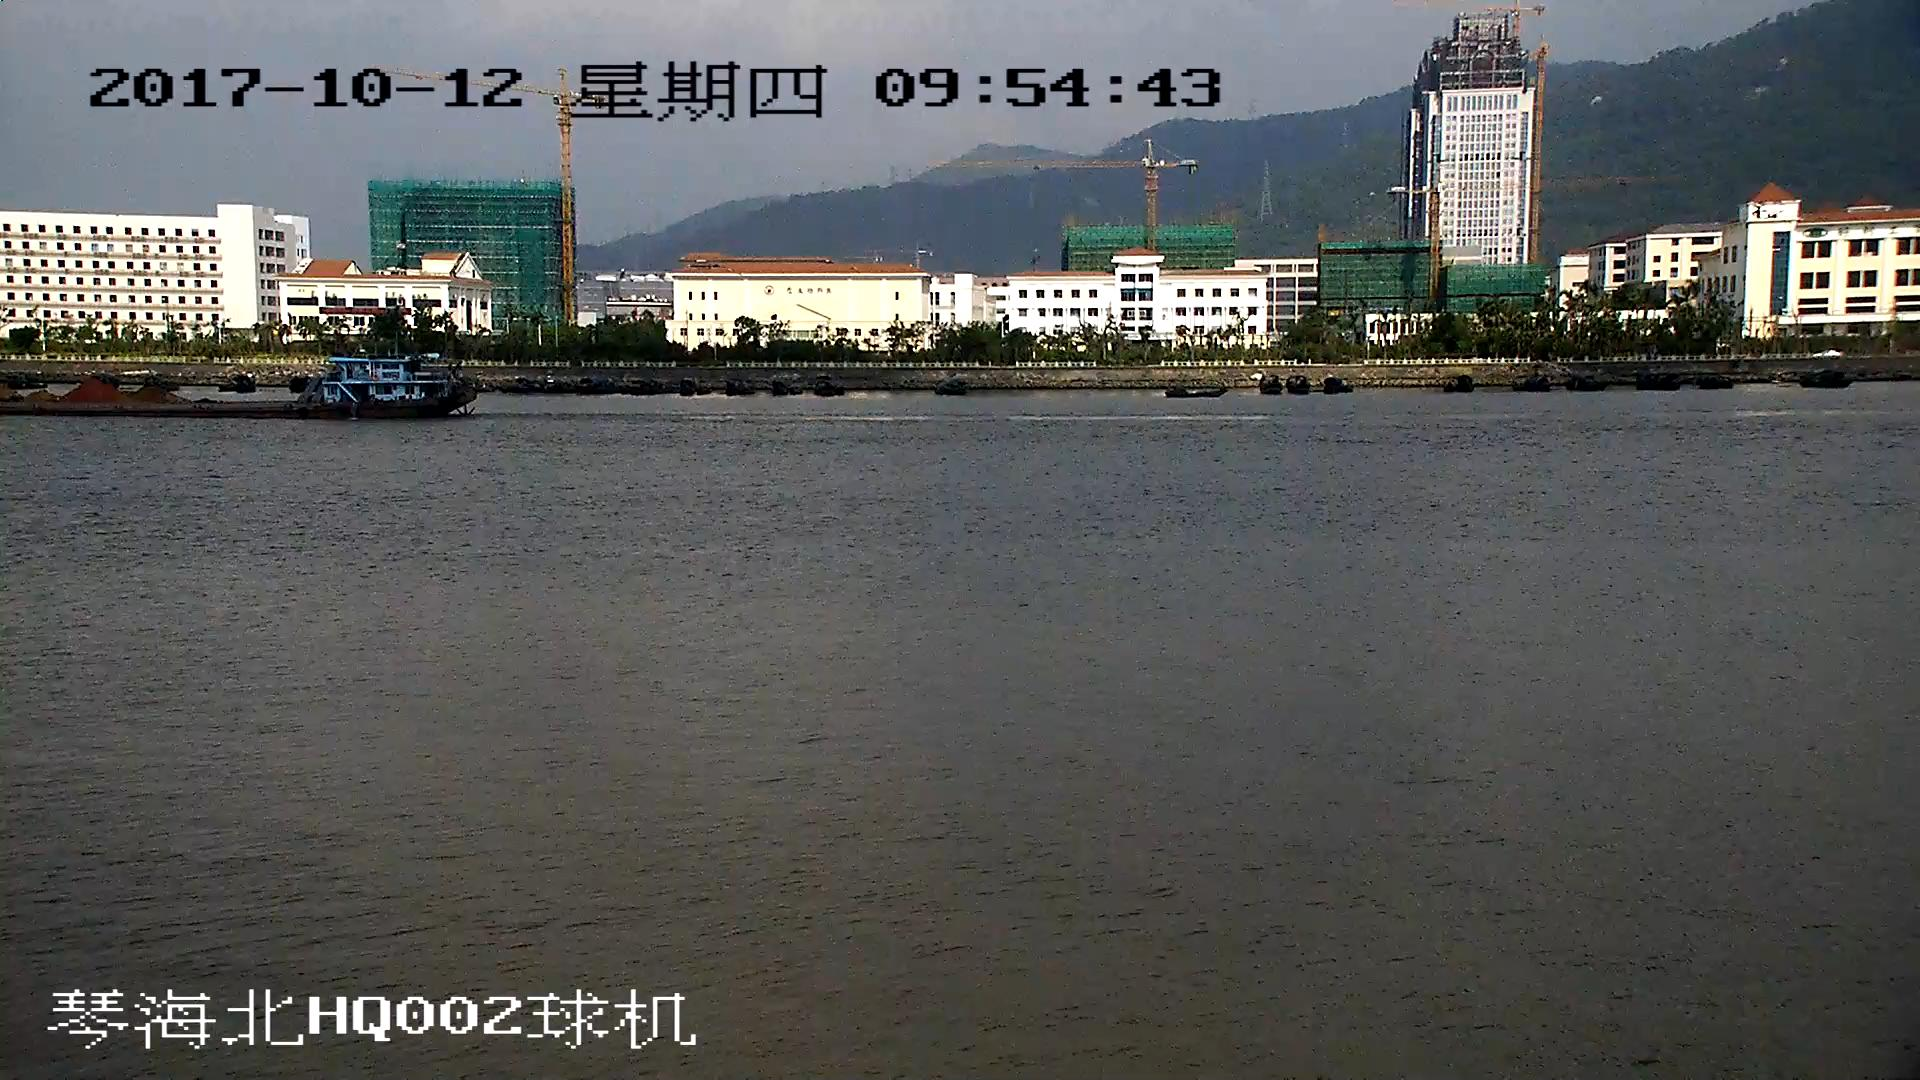ore carrier: (1, 347, 482, 419)
